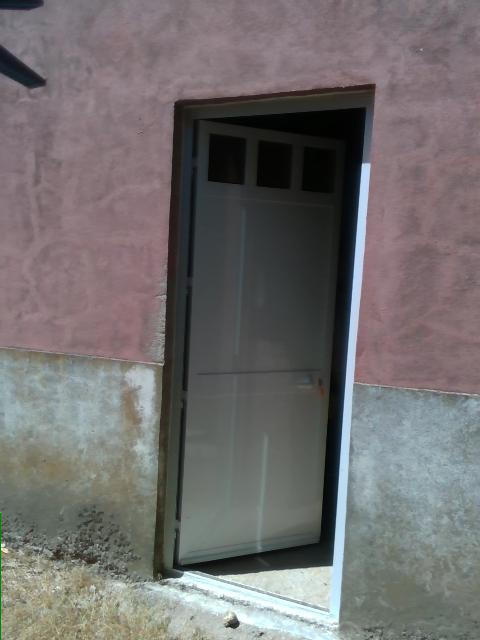semi_door: (150, 82, 378, 623)
